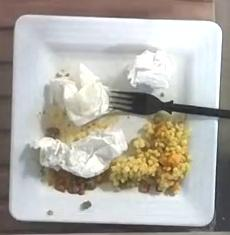beans: (41, 166, 102, 195)
corn: (109, 113, 189, 194)
